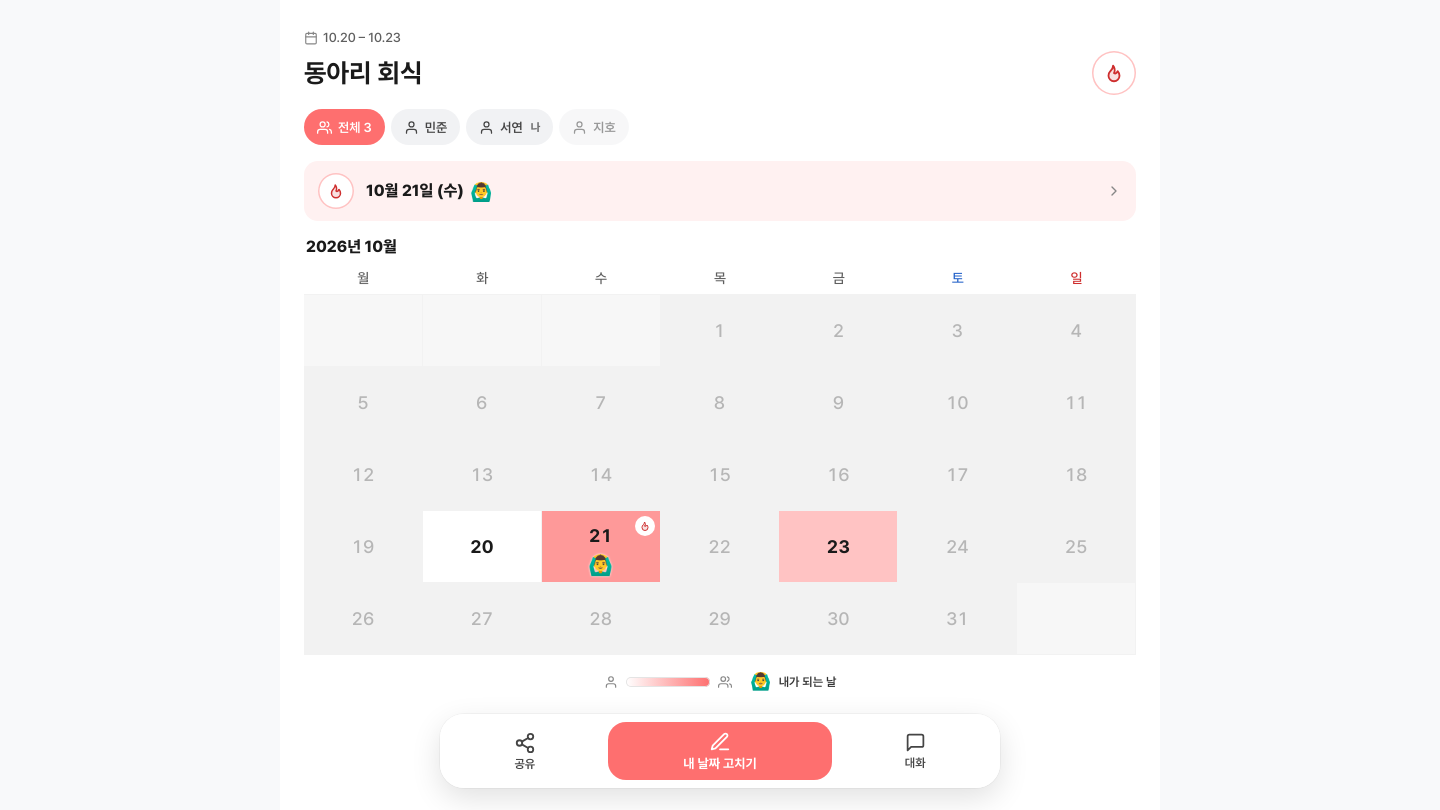
Test: 명단 창 › 날짜를 누르면 되는 사람(나 맨 앞, 🙆‍♂️·나)과 안 되는 사람(아직 안 넣음)을 보인다
Check: the heading "동아리 회식" is shown, box [304, 58, 422, 88]
What coordinates should you click on to do the following:
click the button "21 🙆‍♂️"
I would click on:
 (601, 547)
Its box is [542, 511, 661, 583].
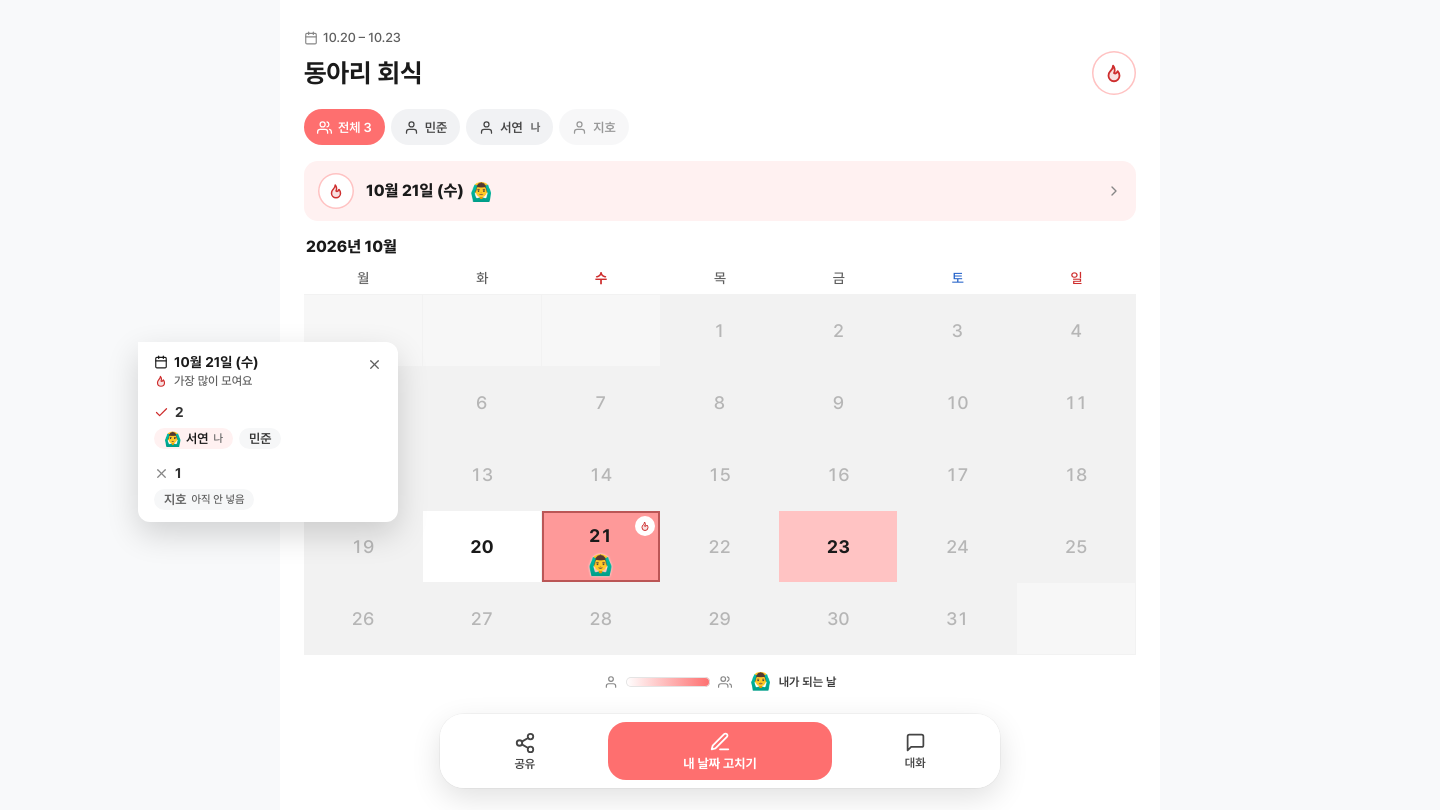
Check: the text "🙆‍♂️ 서연 나" is shown, box [154, 428, 233, 449]
Check: the text "아직 안 넣음" is shown, box [192, 493, 244, 506]
